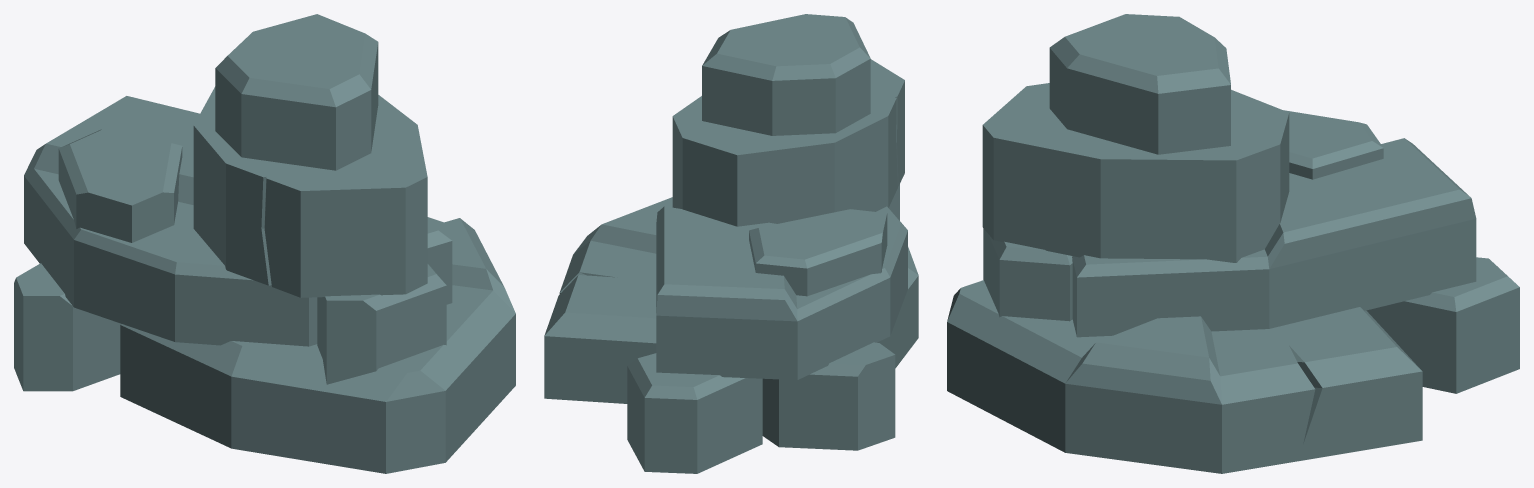
The model's file is brigesRock_Type1_02_mesh_001.fbx.
The picture shows the model from 3 angles, left to right: view 1: azimuth 30°, elevation 25°; view 2: azimuth 150°, elevation 25°; view 3: azimuth 270°, elevation 25°; orthographic projection. The views are drawn at different scales.
Parts seen in each view (by area): view 1: Rock Type1 02 mesh.001; view 2: Rock Type1 02 mesh.001; view 3: Rock Type1 02 mesh.001.
Boxes of the visible parts, x1=… form: Rock Type1 02 mesh.001: x1=14, y1=14, x2=515, y2=473; Rock Type1 02 mesh.001: x1=544, y1=14, x2=918, y2=473; Rock Type1 02 mesh.001: x1=947, y1=14, x2=1519, y2=473.
Bounding box in the file's own units: 178 × 143 × 222.
